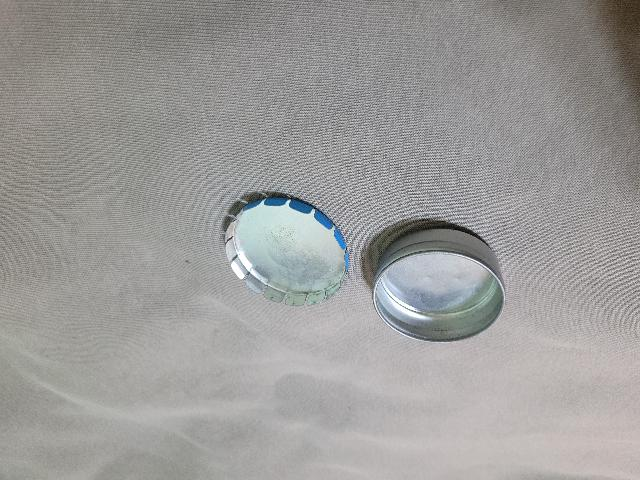Metal: (368, 225, 508, 344), (218, 192, 354, 310)
